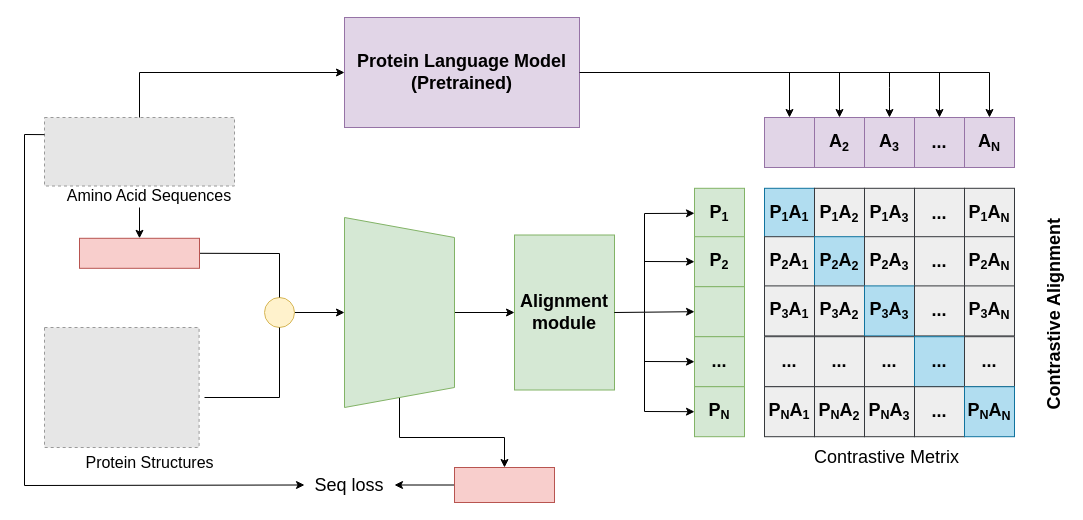
Image size: 1083x520. Some labels were removed from this diagram. Grey dashed boxes stand in for pictures. The shapes that lost their labels are listed below. From the top down, each one's box as (x1, y1, x2, y2) in pixels, then its label:
(764, 116, 814, 168): A 1
(78, 237, 200, 268): Mask
(344, 216, 454, 408): Protein Structure-Sequence encoder
(694, 286, 744, 337): P 3
(454, 466, 554, 502): MLP
